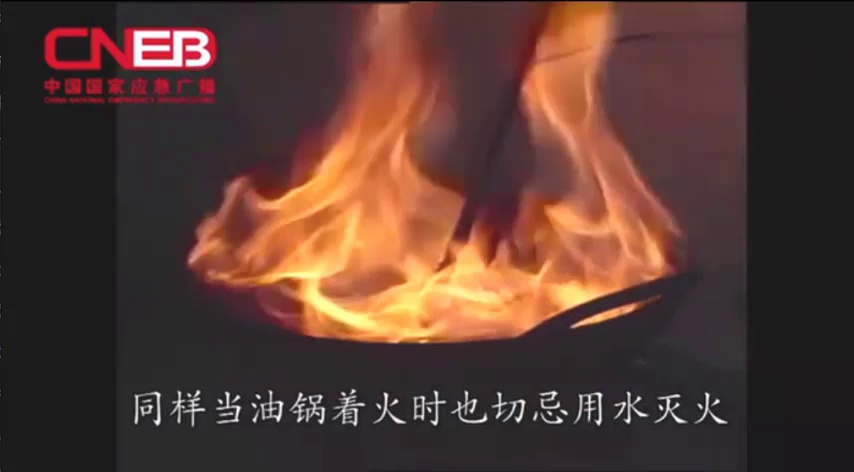fire: (188, 4, 698, 346)
